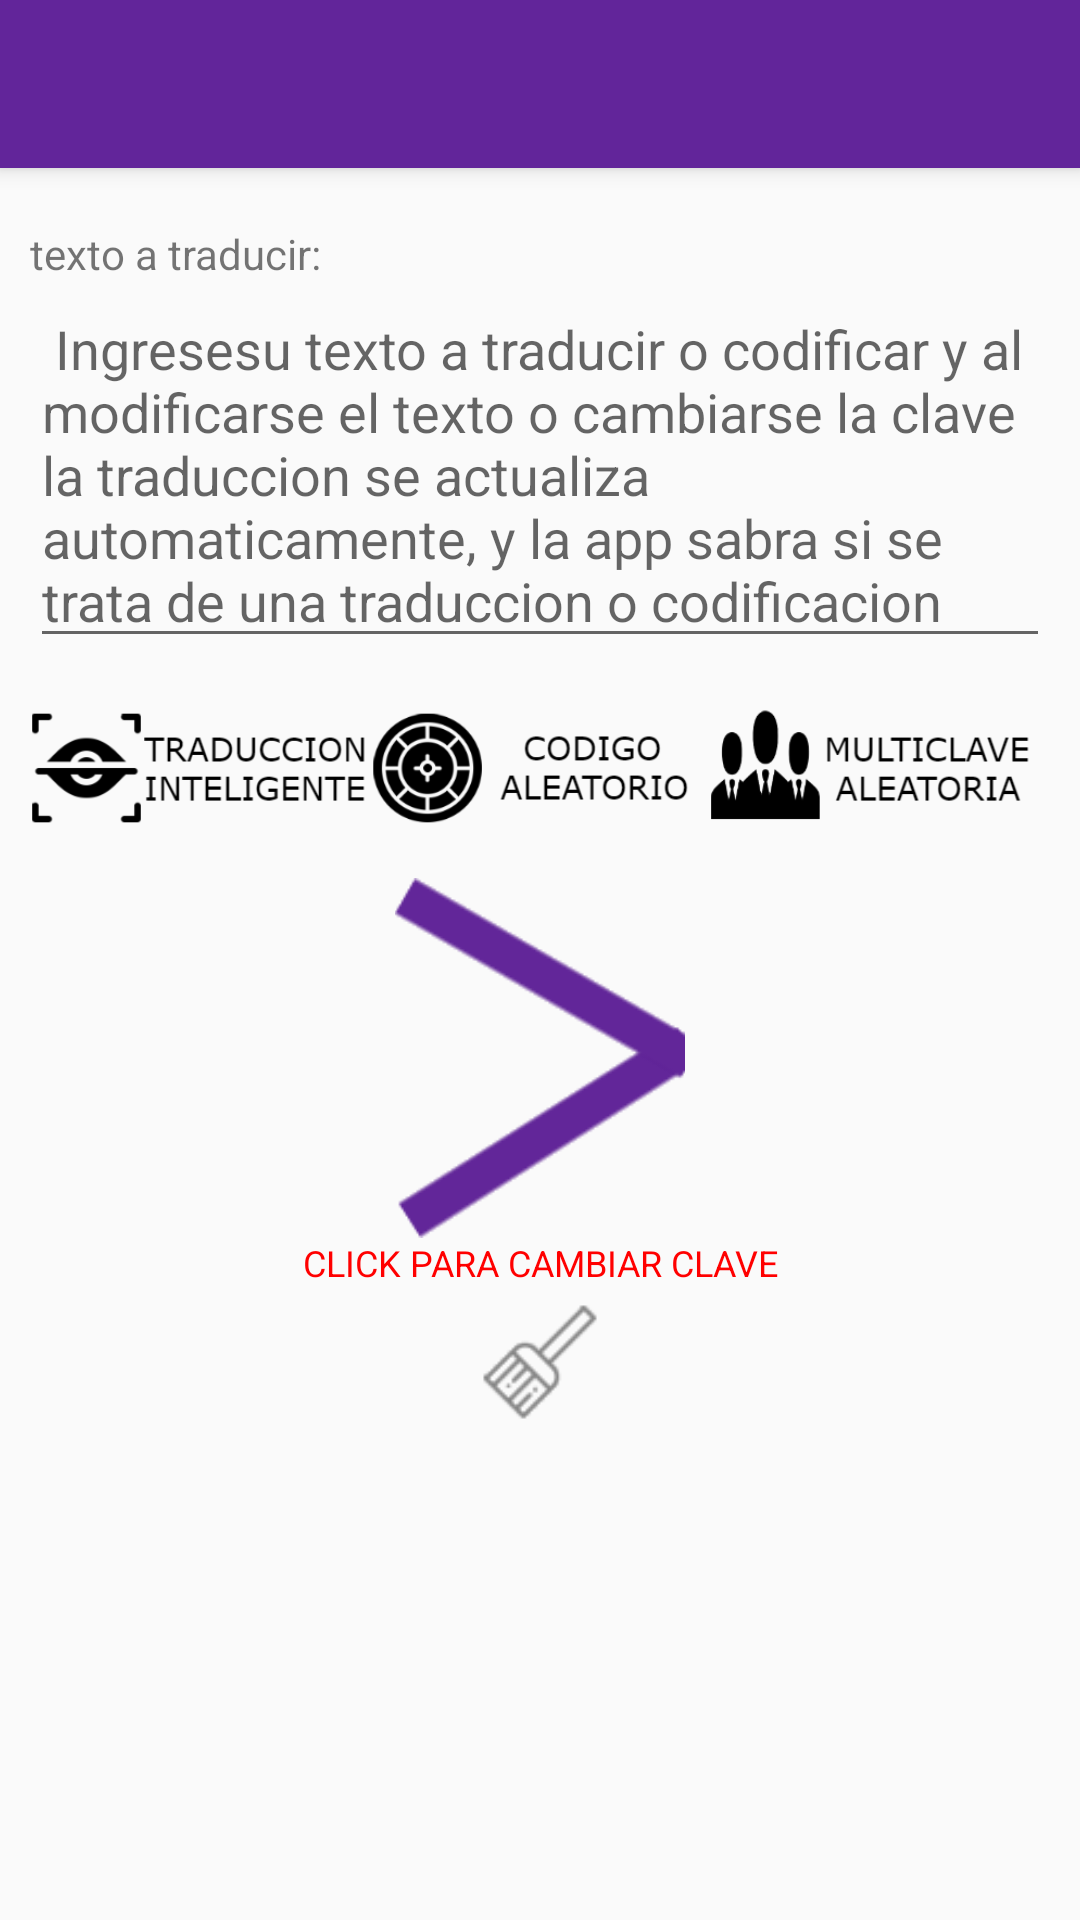

Icons on this 1080px×1920px Android screen, each with the point to tap as (x,y):
limpiar: (540,1362)
sig: (540,1058)
